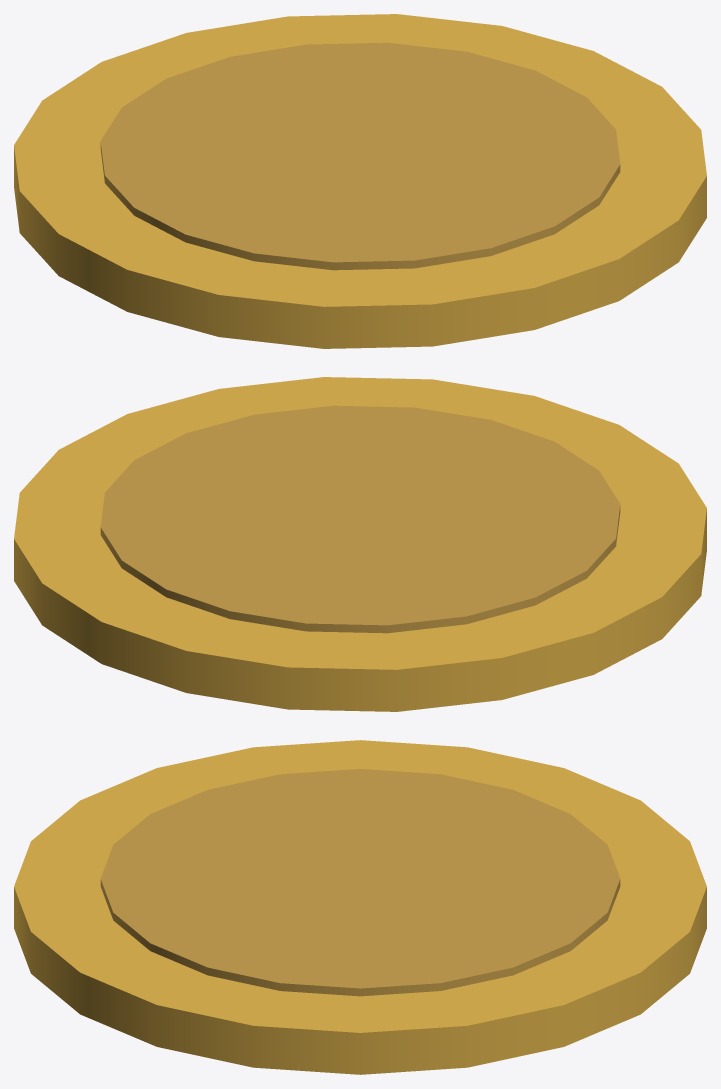
File: coin.glb
The picture shows the model from 3 angles, top to bottom: view 1: azimuth 30°, elevation 25°; view 2: azimuth 150°, elevation 25°; view 3: azimuth 270°, elevation 25°; orthographic projection.
Visible parts, largest first — view 1: coin.001; view 2: coin.001; view 3: coin.001.
Part boxes in pixels (x1,y1,x2,y2): coin.001: (14, 14, 706, 348); coin.001: (14, 377, 706, 711); coin.001: (14, 740, 706, 1074).
Bounding box in the file's own units: 0.12 × 0.011 × 0.12.
